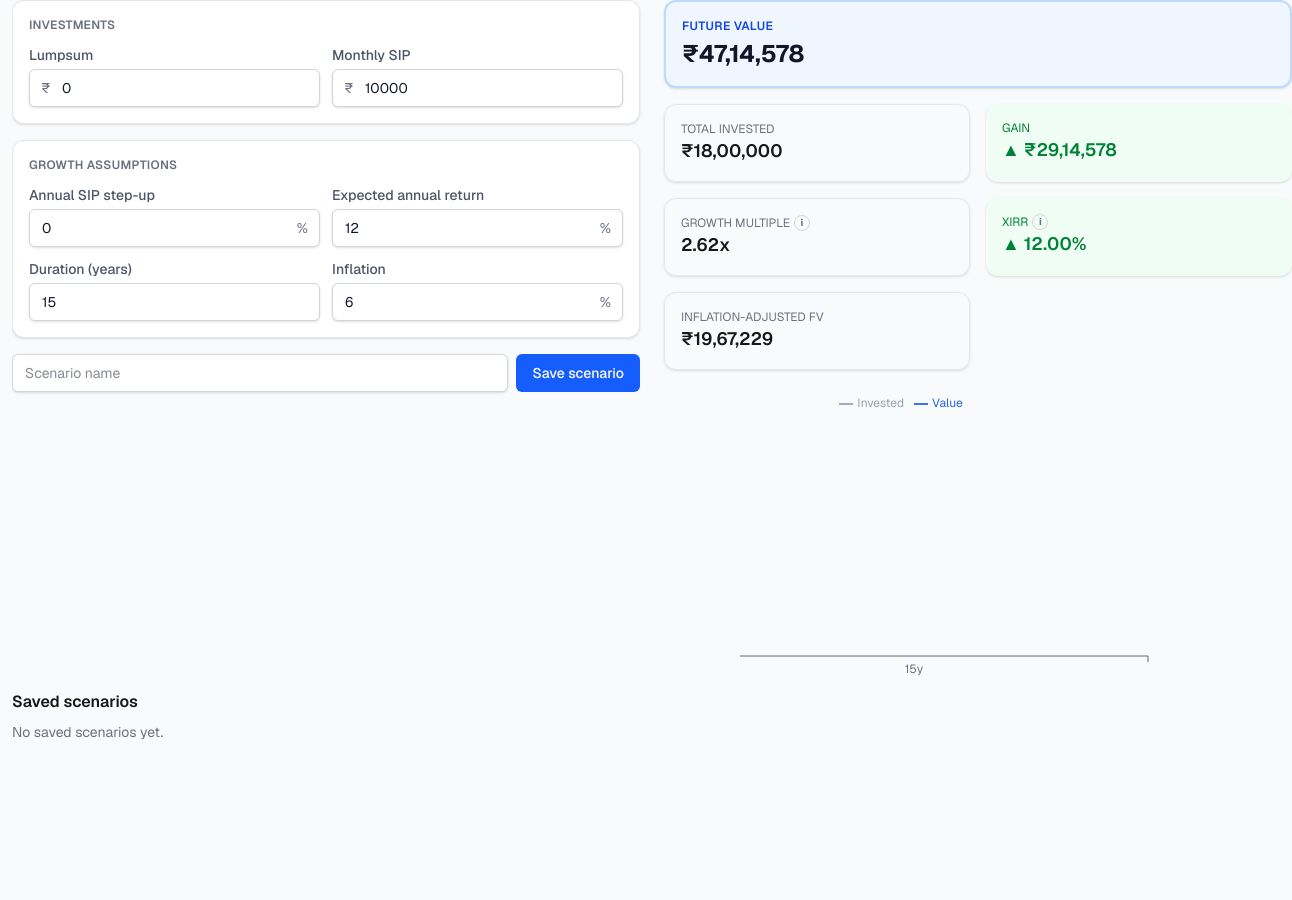
Scenario: CalculatorTab › saves a scenario
Type "Aggressive" into the field labelled "Scenario name" at (260, 373), box [12, 354, 508, 392]
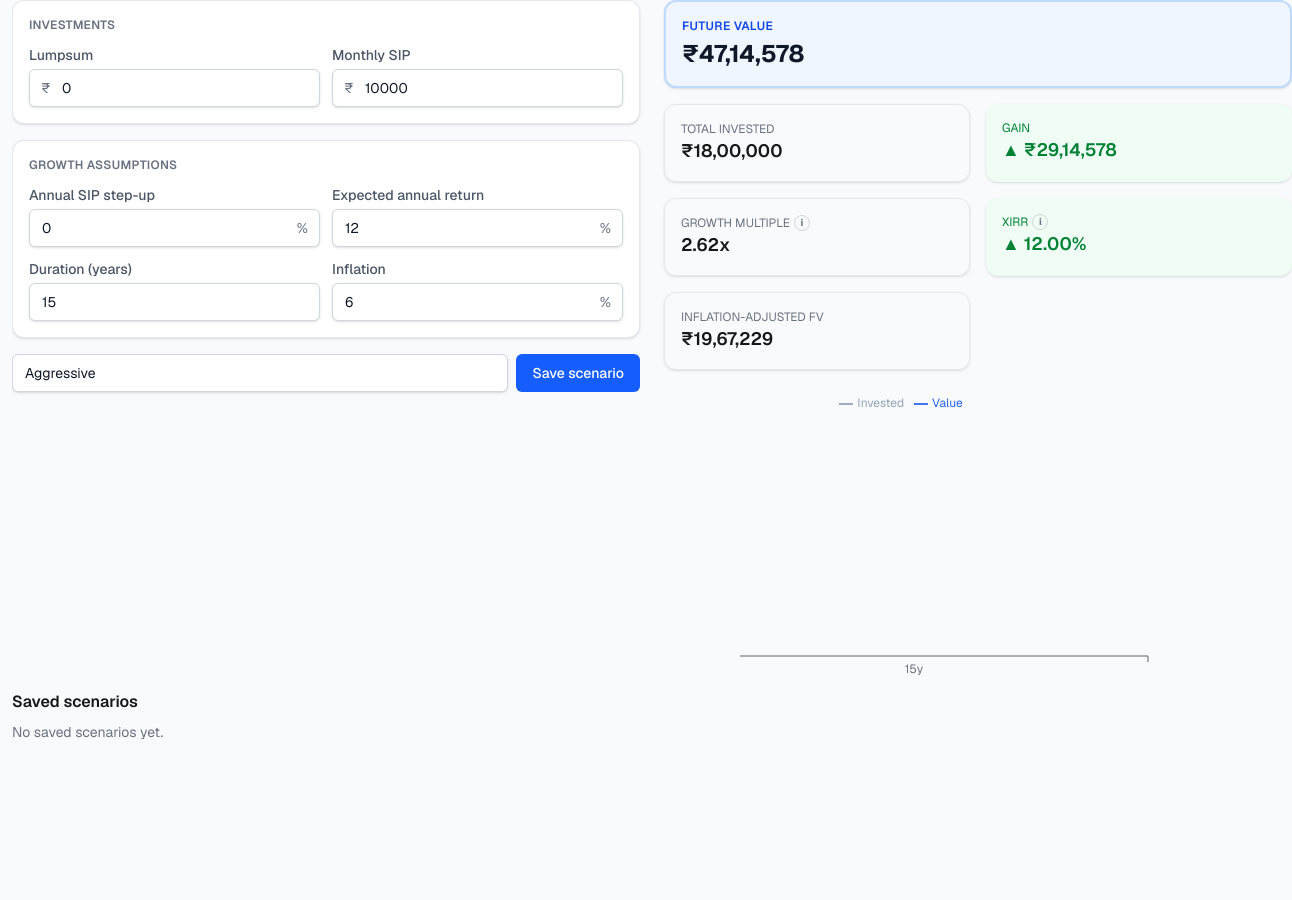
Click the button "Save scenario" at (578, 373), box [516, 354, 640, 392]
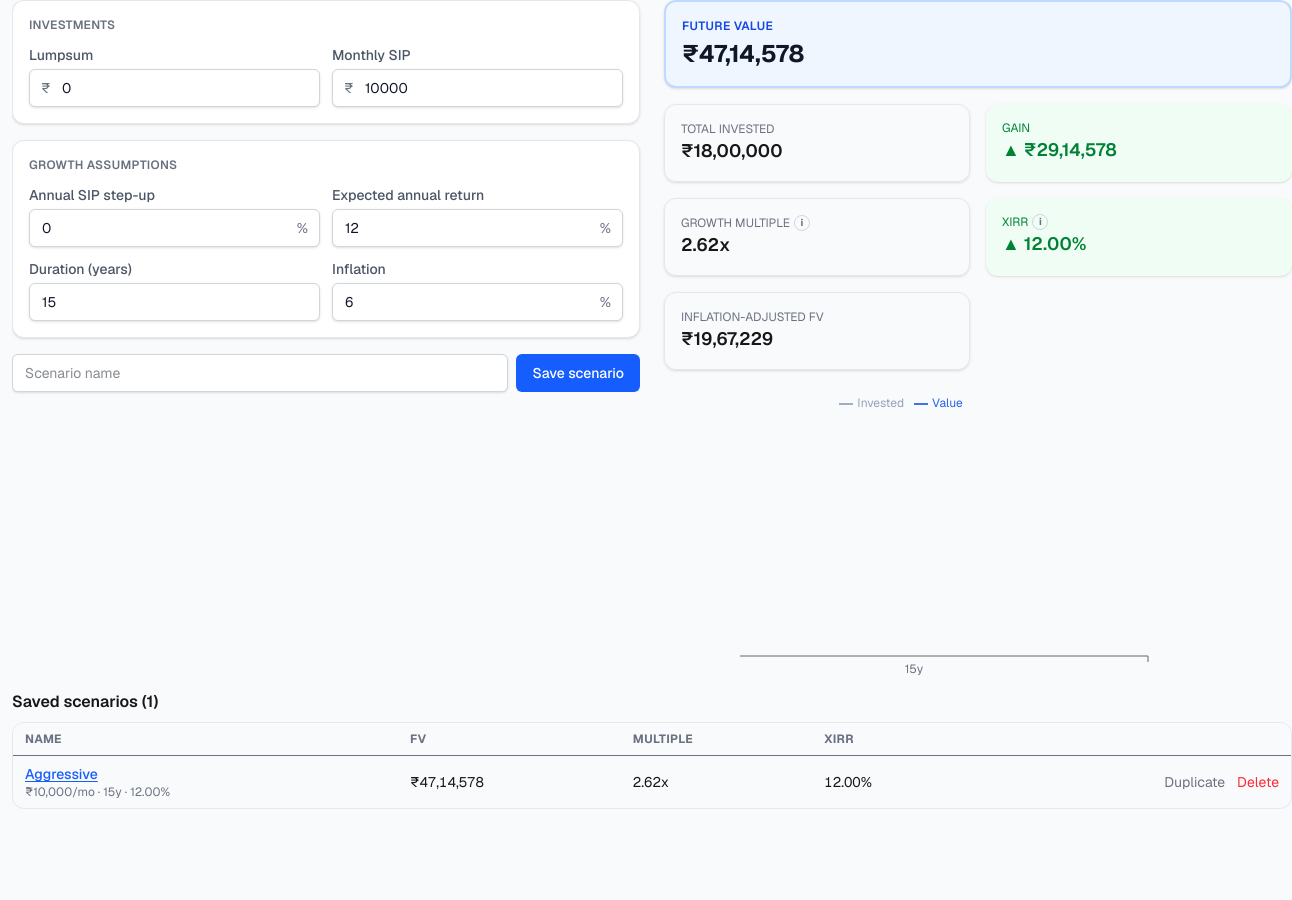
Check: the button "Aggressive" is shown, box [25, 764, 98, 784]
